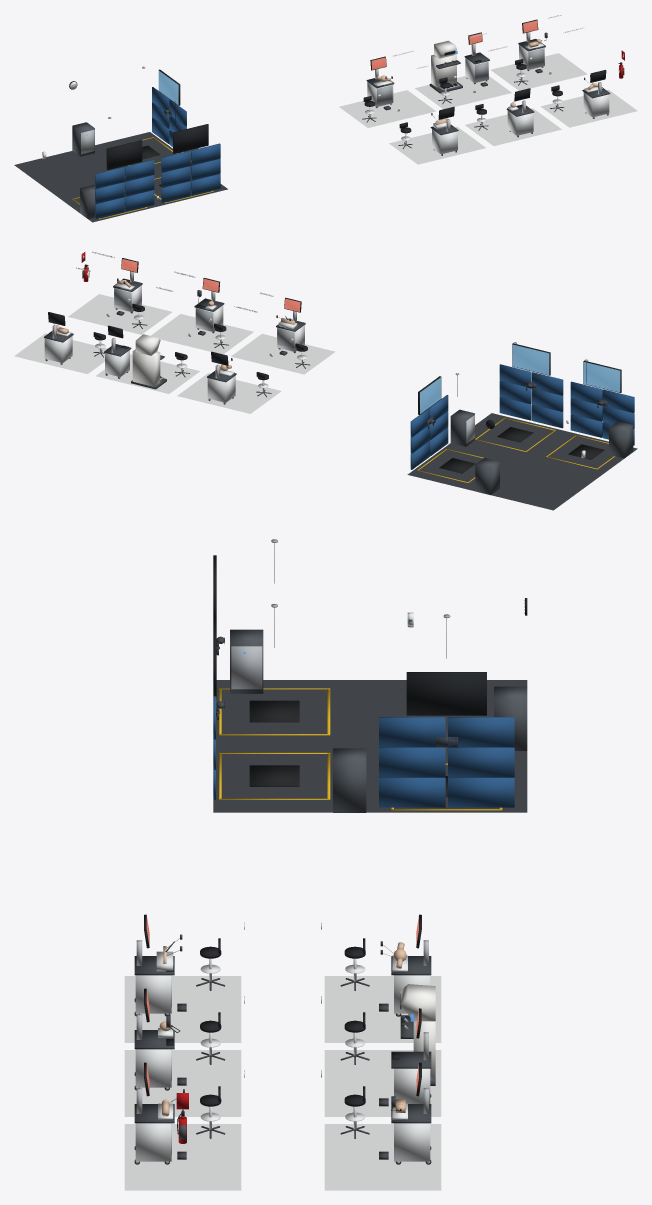
File: 27_n2_realidad_virtual.glb
The picture shows the model from 3 angles, top to bottom: view 1: azimuth 30°, elevation 25°; view 2: azimuth 150°, elevation 25°; view 3: azimuth 270°, elevation 25°; orthographic projection. The views are drawn at different scales.
Visible parts, largest first — view 1: panel_acolchado (×6), piso · Realidad virtual inmersiva · 3 estaciones, pantalla_65 (×3), piso · Simulación háptica 4, piso · Simulación háptica 6, piso · Simulación háptica 5, piso · Simulación háptica 3, piso · Simulación háptica 2, piso · Simulación háptica 1, consola_cirujano, gabinete_pc (×2), sim_laparoscopia (+5 smaller); view 2: piso · Realidad virtual inmersiva · 3 estaciones, panel_acolchado (×6), pantalla_65 (×3), gabinete_pc (×3), piso · Simulación háptica 1, estacion_rv (×3), piso · Simulación háptica 2, piso · Simulación háptica 3, piso · Simulación háptica 4, piso · Simulación háptica 6, consola_cirujano, sim_artroscopia_hombro (+6 smaller); view 3: piso · Realidad virtual inmersiva · 3 estaciones, panel_acolchado (×2), piso · Simulación háptica 6, piso · Simulación háptica 3, gabinete_pc (×3), piso · Simulación háptica 1, piso · Simulación háptica 2, piso · Simulación háptica 4, piso · Simulación háptica 5, estacion_rv (×2), pantalla_65, sim_broncoscopia (+6 smaller).
Boxes of the visible parts, box(x1,y1,x2,y2) form: panel_acolchado (×6): box(95, 87, 220, 218); piso · Realidad virtual inmersiva · 3 estaciones: box(14, 132, 227, 222); pantalla_65 (×3): box(106, 69, 208, 170); piso · Simulación háptica 4: box(339, 90, 435, 127); piso · Simulación háptica 6: box(490, 53, 587, 90); piso · Simulación háptica 5: box(415, 76, 511, 109); piso · Simulación háptica 3: box(540, 89, 637, 127); piso · Simulación háptica 2: box(465, 108, 561, 145); piso · Simulación háptica 1: box(389, 126, 485, 164); consola_cirujano: box(429, 40, 462, 93); gabinete_pc (×2): box(72, 122, 94, 219); sim_laparoscopia: box(430, 107, 458, 155); piso · Realidad virtual inmersiva · 3 estaciones: box(407, 413, 637, 510); panel_acolchado (×6): box(410, 364, 634, 469); pantalla_65 (×3): box(418, 343, 621, 414); gabinete_pc (×3): box(450, 409, 633, 495); piso · Simulación háptica 1: box(231, 333, 335, 374); estacion_rv (×3): box(417, 342, 614, 482); piso · Simulación háptica 2: box(151, 314, 253, 354); piso · Simulación háptica 3: box(68, 294, 172, 334); piso · Simulación háptica 4: box(177, 373, 281, 413); piso · Simulación háptica 6: box(14, 333, 107, 374); consola_cirujano: box(131, 334, 166, 389); sim_artroscopia_hombro: box(207, 351, 236, 404); piso · Realidad virtual inmersiva · 3 estaciones: box(213, 680, 527, 812); panel_acolchado (×2): box(379, 717, 514, 807); piso · Simulación háptica 6: box(324, 1124, 441, 1190); piso · Simulación háptica 3: box(124, 1124, 241, 1190); gabinete_pc (×3): box(230, 629, 527, 812); piso · Simulación háptica 1: box(124, 976, 241, 1042); piso · Simulación háptica 2: box(124, 1050, 241, 1116); piso · Simulación háptica 4: box(324, 976, 441, 1042); piso · Simulación háptica 5: box(324, 1050, 441, 1116); estacion_rv (×2): box(216, 539, 330, 799); pantalla_65: box(406, 672, 486, 715); sim_broncoscopia: box(379, 1062, 431, 1164).
Size of the model in its own units: 21.75 by 3.4 by 7.25.
29 materials, 2 textured.
